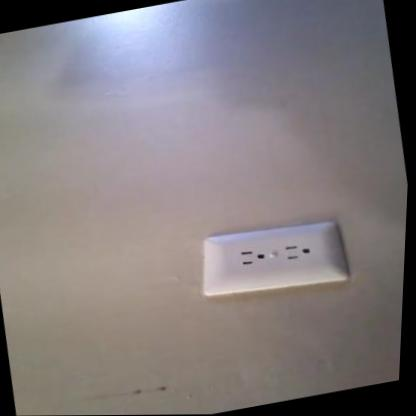OUTLET: (194, 216, 345, 301)
